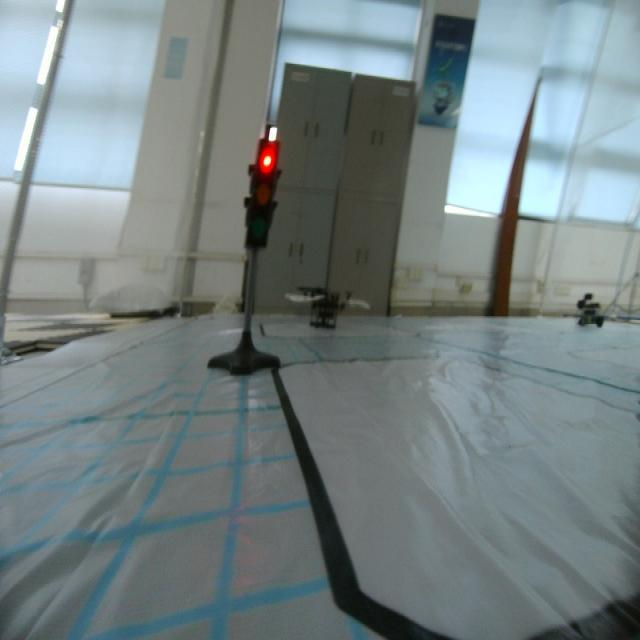red: (242, 138, 284, 262)
